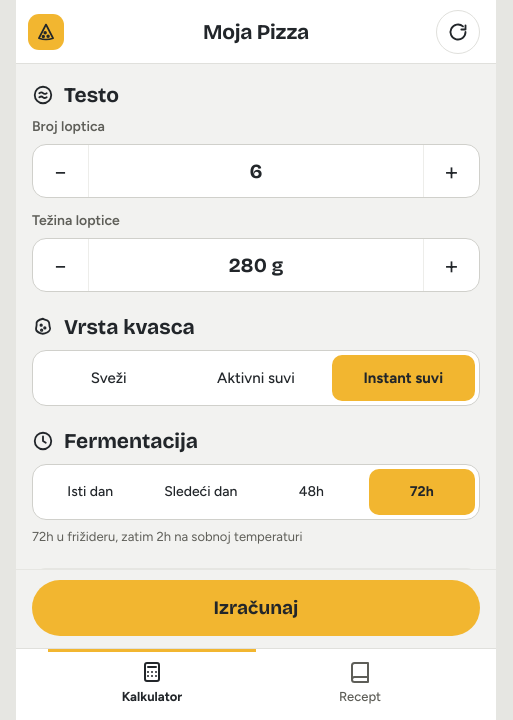
it: Calculator → Quantities › Izmeni returns to the Calculator with the inputs intact
The image size is (513, 720).
Click the button named "Više loptica": (451, 171) [423, 145, 479, 197]
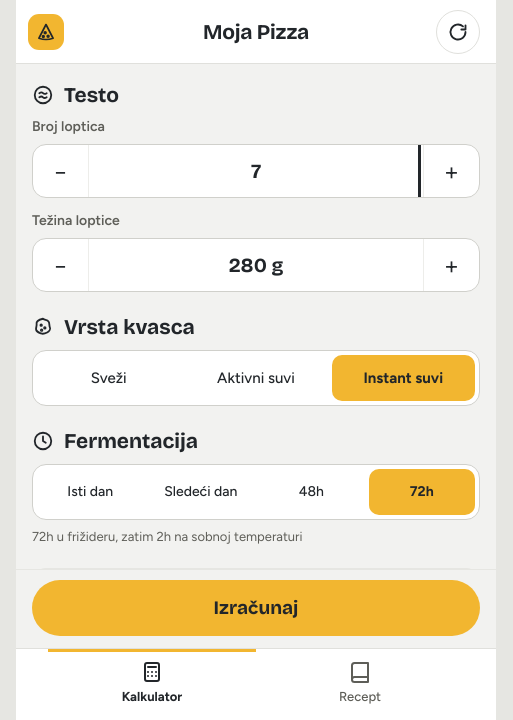
Click the button "Izračunaj": (256, 608) [32, 580, 480, 636]
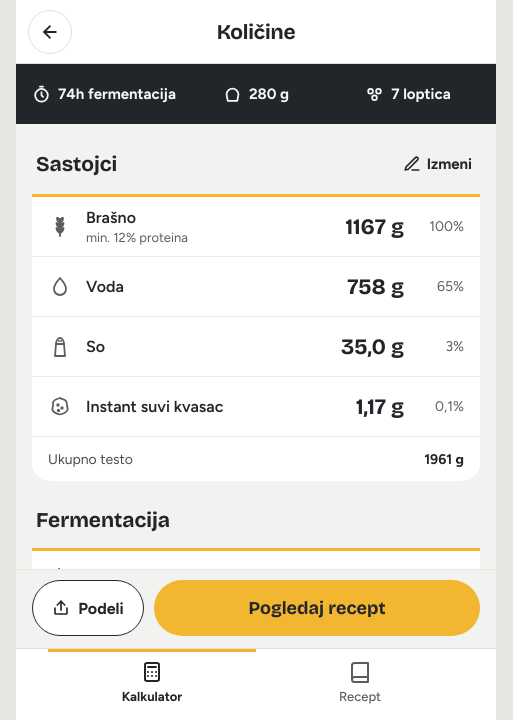
Click the link "Izmeni": (437, 164) [403, 154, 472, 173]
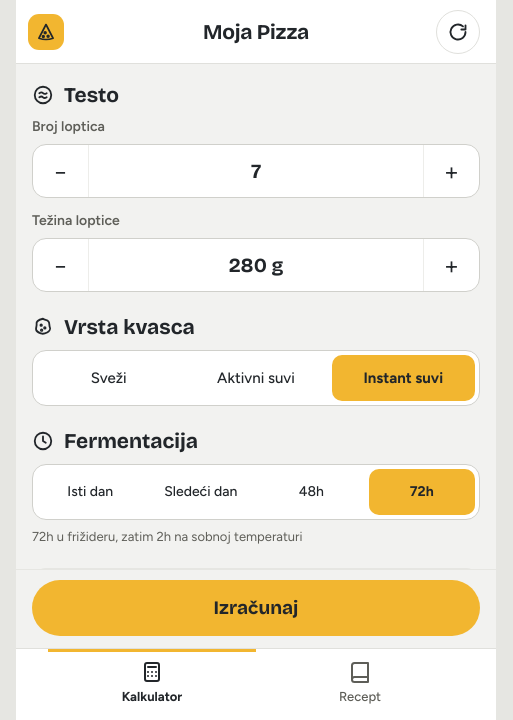
Expected: the field labelled "Broj loptica" holds "7", [89, 145, 423, 197]
Expected: the field labelled "Težina loptice" holds "280 g", [89, 239, 423, 291]
